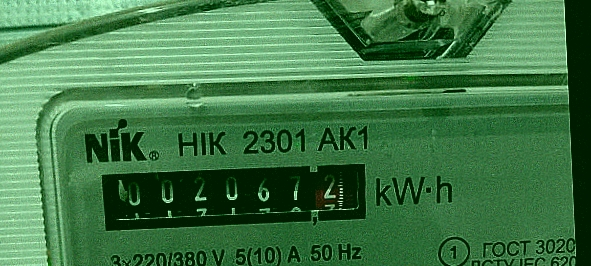0: (220, 171, 240, 200), (124, 178, 143, 208), (157, 174, 176, 204)
2: (319, 170, 339, 200), (190, 173, 209, 203)
6: (253, 173, 273, 203)
7: (286, 171, 304, 202)
screen: (87, 148, 382, 243)
